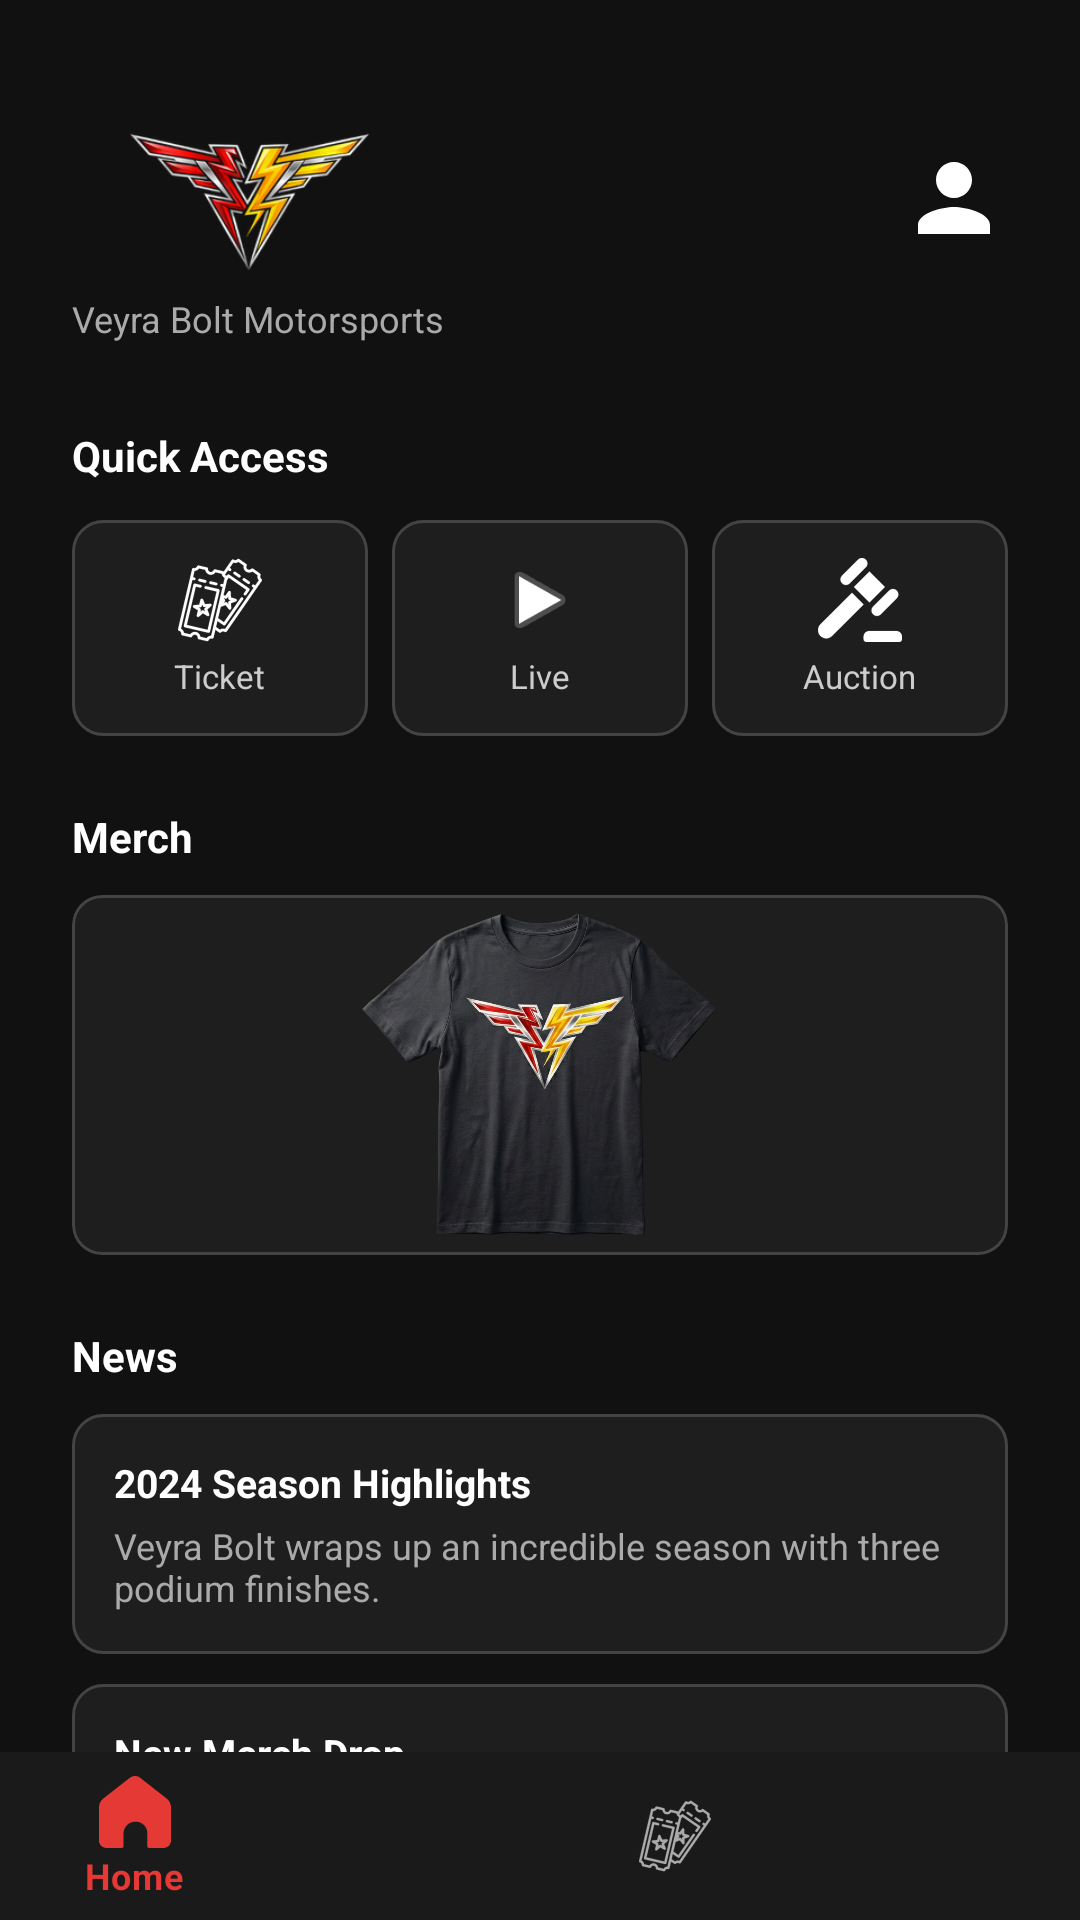

Icon click points for this 1080 x 1920 phone screenshot, format (x=x, y=y):
Profile: (x=954, y=198)
